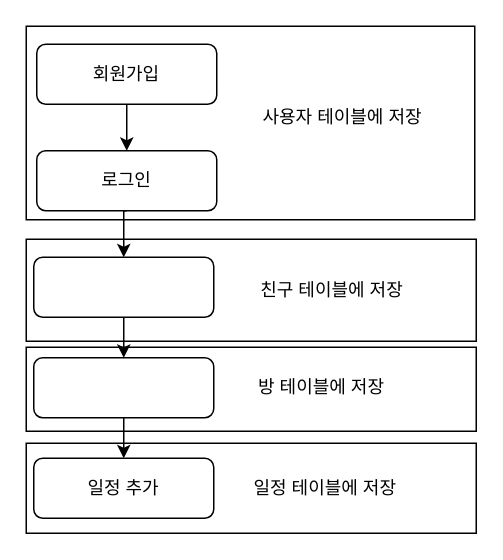
The diagram is 503 pixels wide and 560 high, and some of its shapes have lost their labels. Here are the shapes that lost their labels. From the top down, the centre of each, then its label:
the point at 123,286: 친구 추가
the point at 123,387: 일정 공유방 생성
